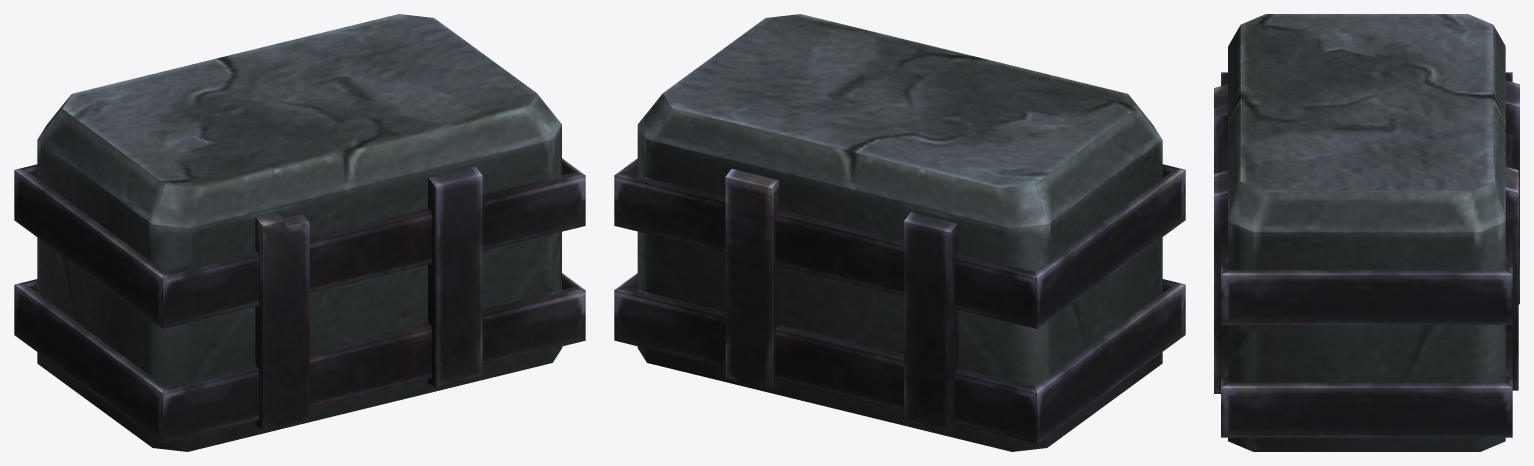
Rendered from B_shikuai019.fbx.
The picture shows the model from 3 angles, left to right: view 1: azimuth 30°, elevation 25°; view 2: azimuth 150°, elevation 25°; view 3: azimuth 270°, elevation 25°; orthographic projection.
Visible parts, largest first — view 1: B_shikuai019; view 2: B_shikuai019; view 3: B_shikuai019.
Boxes of the visible parts, x1=… form: B_shikuai019: x1=14, y1=14, x2=585, y2=451; B_shikuai019: x1=614, y1=14, x2=1185, y2=451; B_shikuai019: x1=1214, y1=14, x2=1519, y2=451.
Size of the model in its own units: 117 by 67.43 by 74.6.
